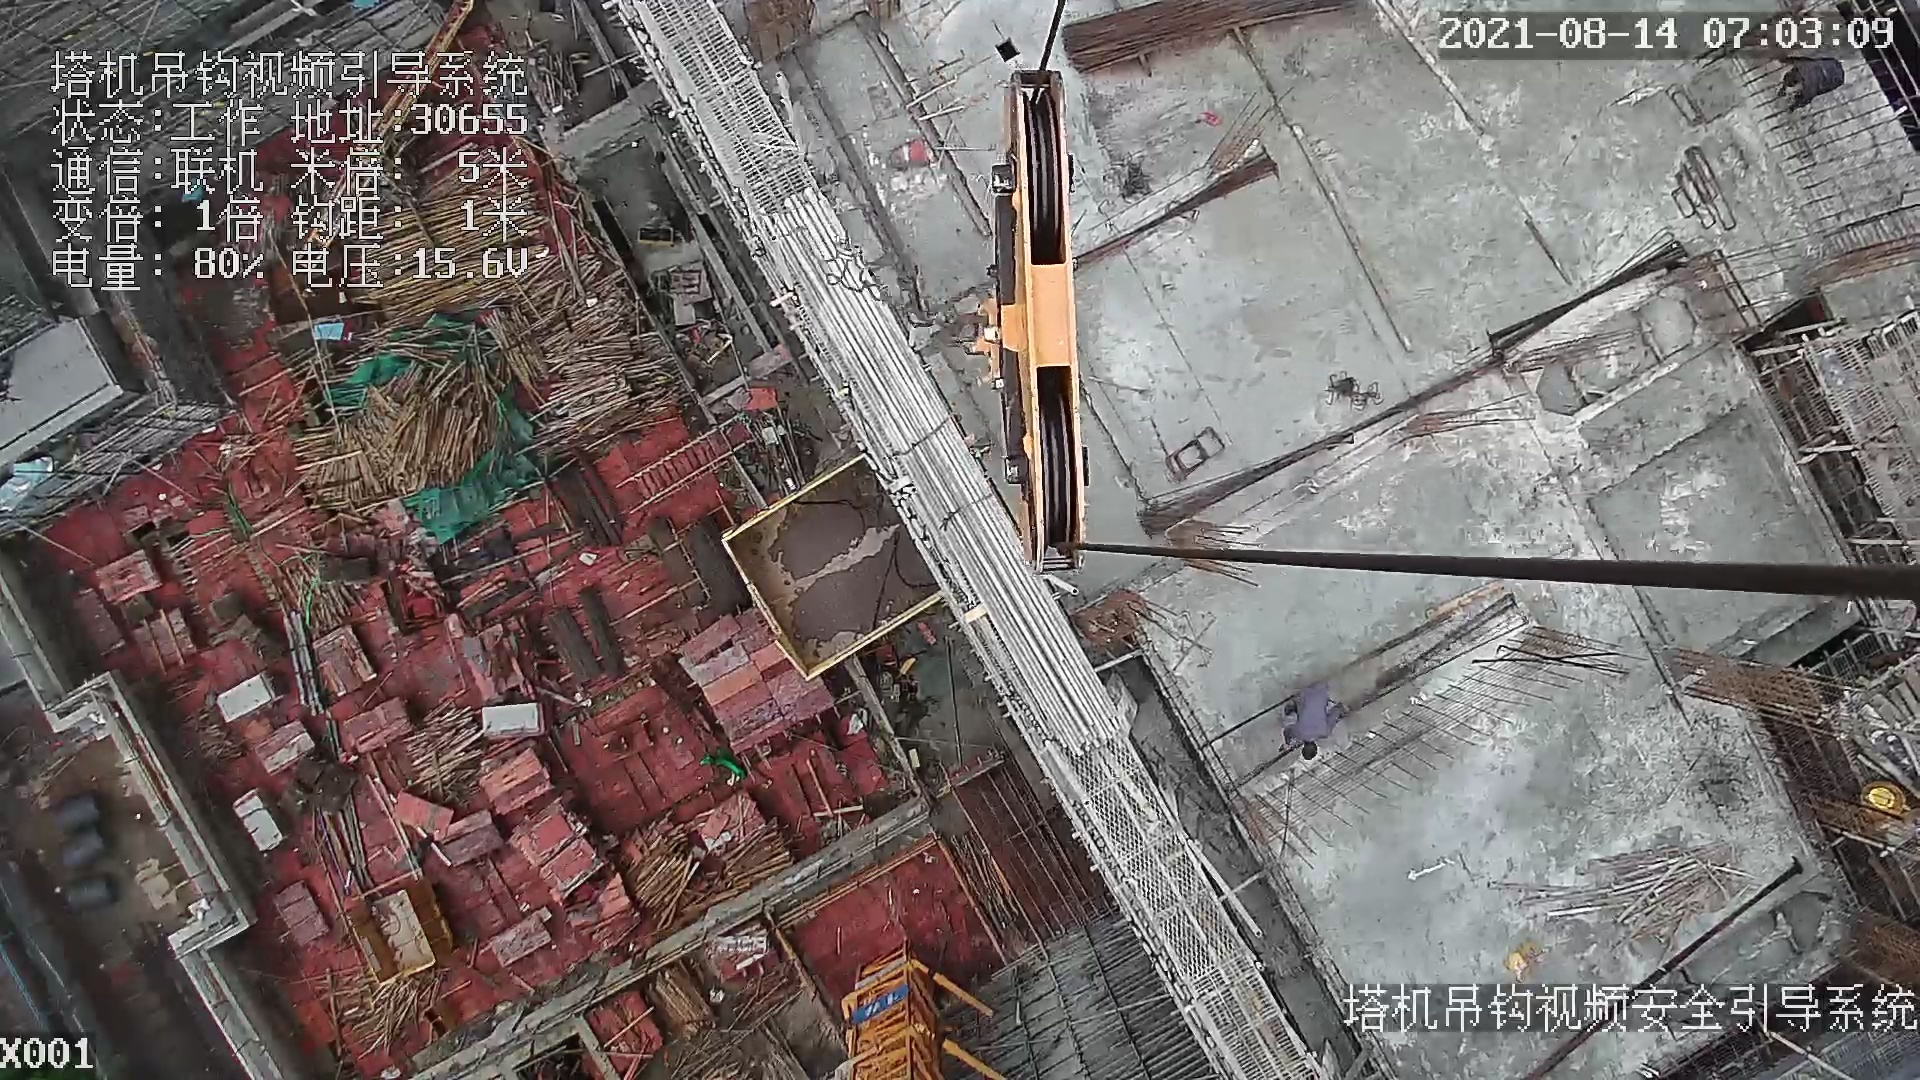hook: (972, 64, 1090, 577)
person: (1281, 683, 1346, 758), (1777, 53, 1845, 113)
slogan: (841, 983, 914, 1028)
